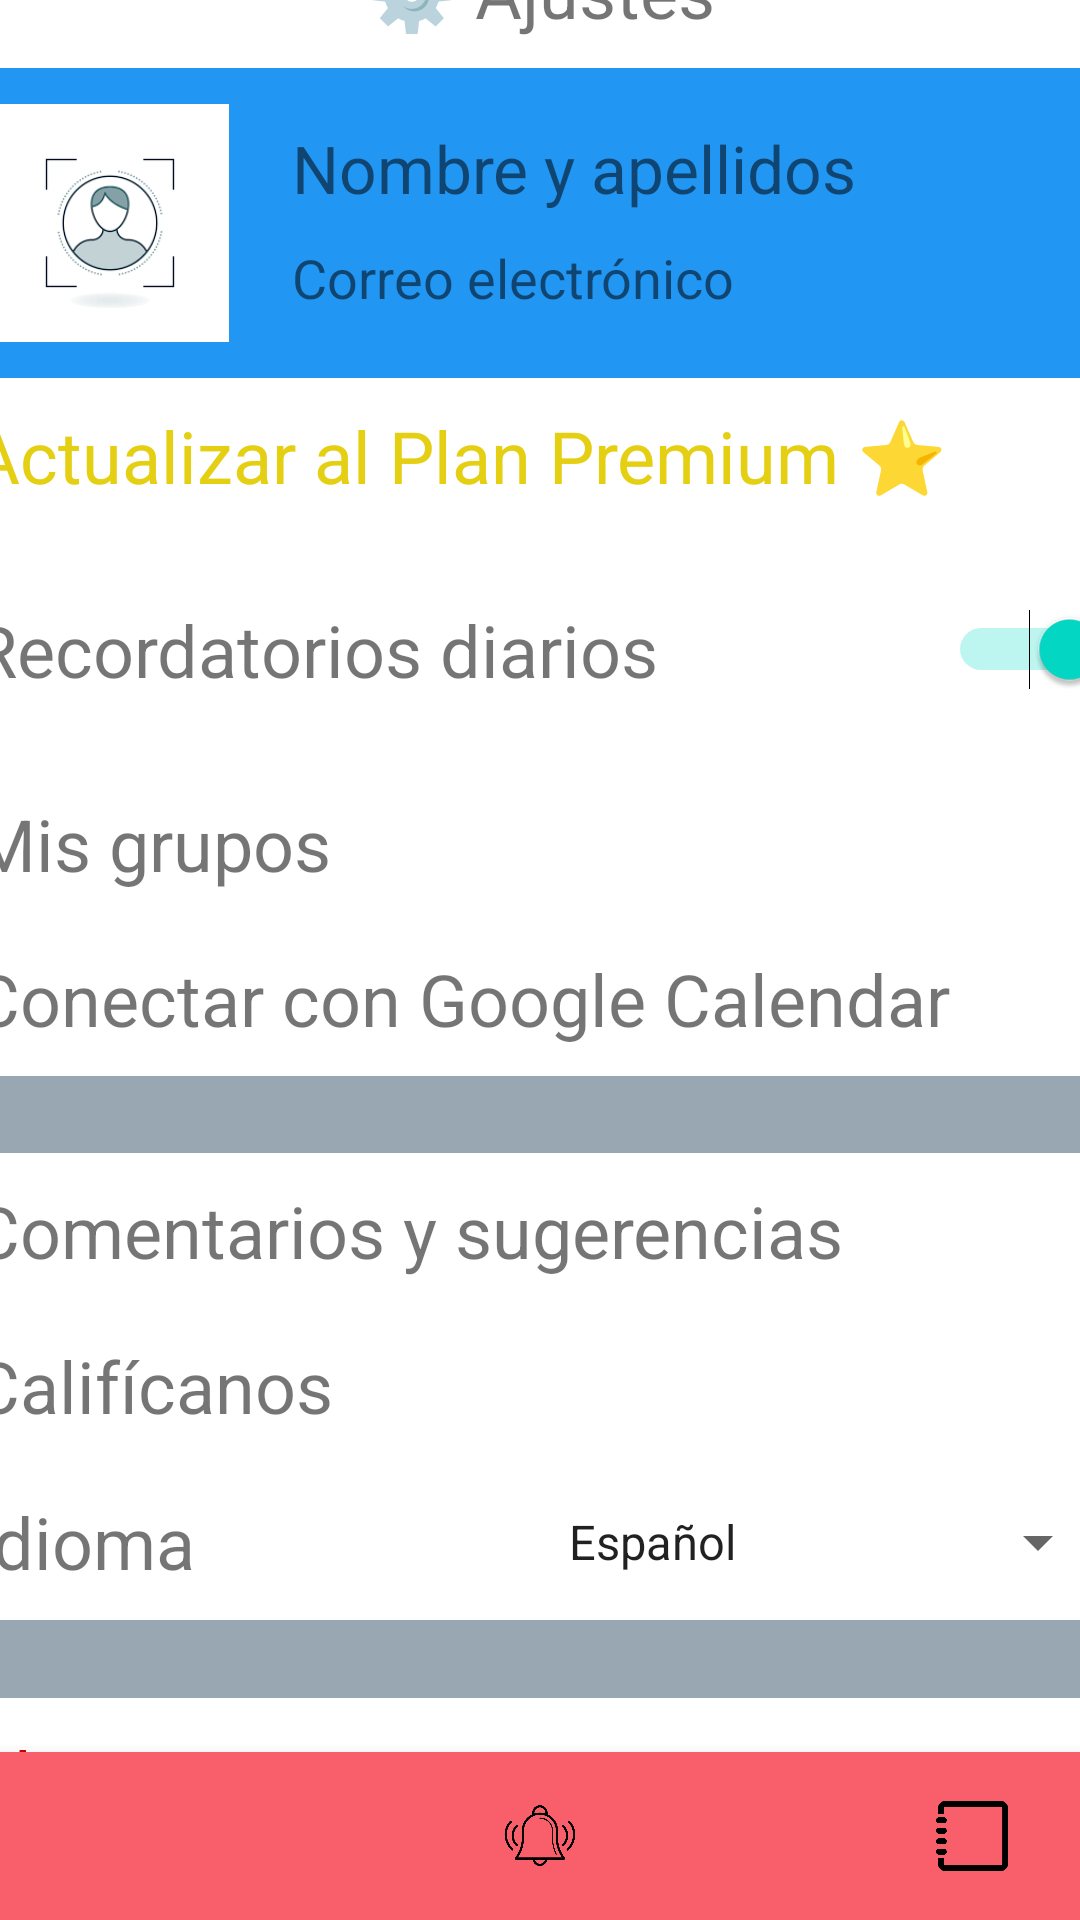

Icons on this 1080px×1920px Android screen, each with the point to tap as (x,y):
profile: (123,223)
